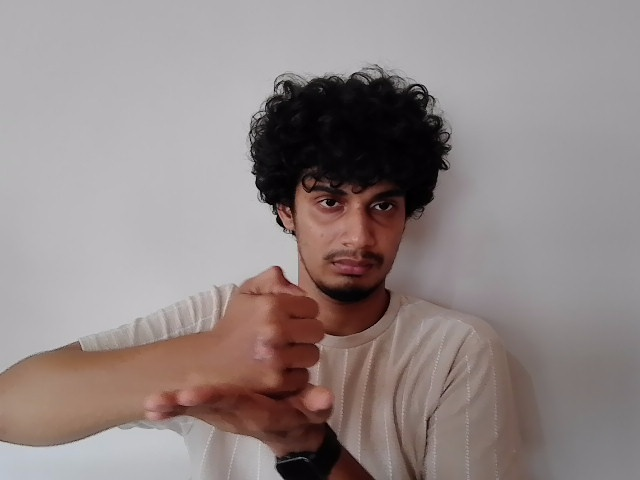help: (145, 264, 339, 428)
